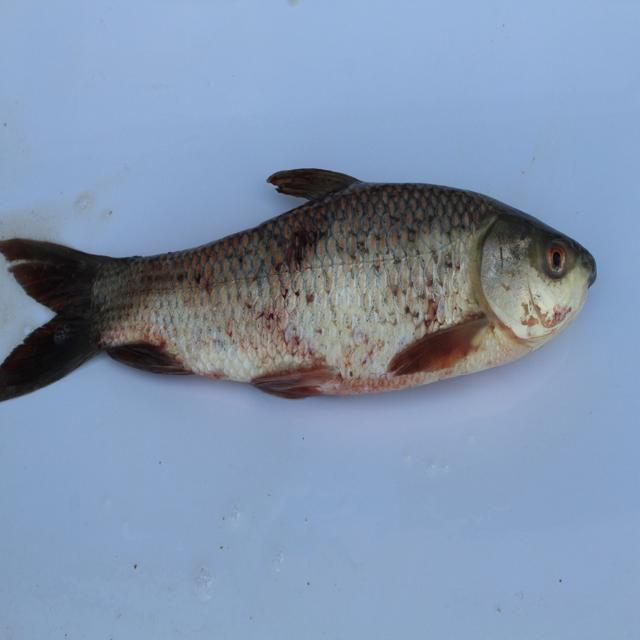Rohu: (1, 158, 598, 421)
